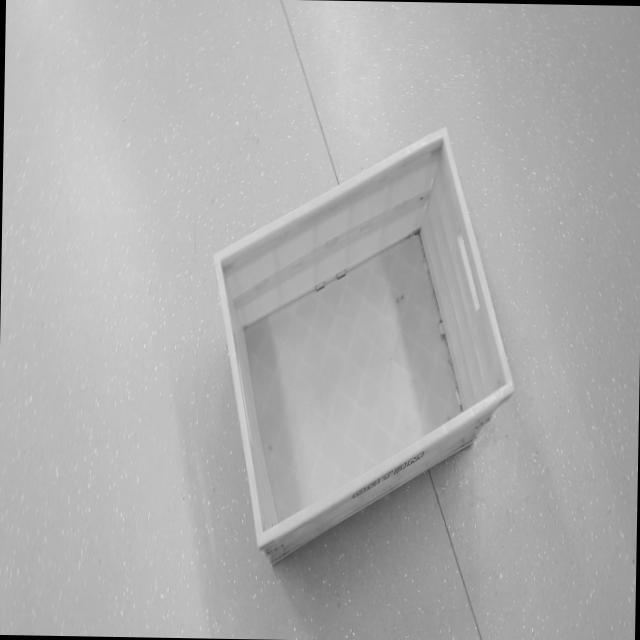box: (206, 113, 524, 602)
